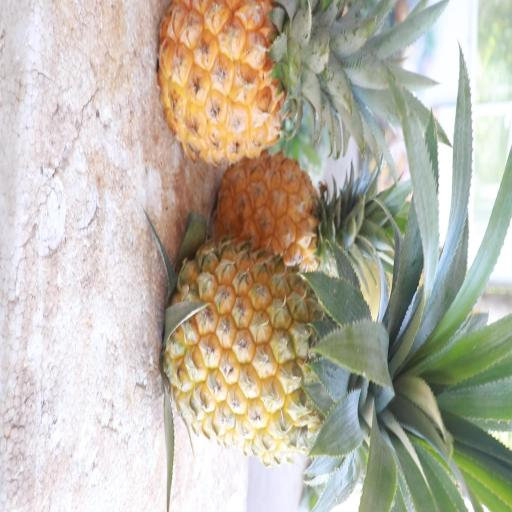Pineapple - v8 v1: (161, 239, 388, 469), (157, 0, 356, 171), (216, 146, 381, 275)
